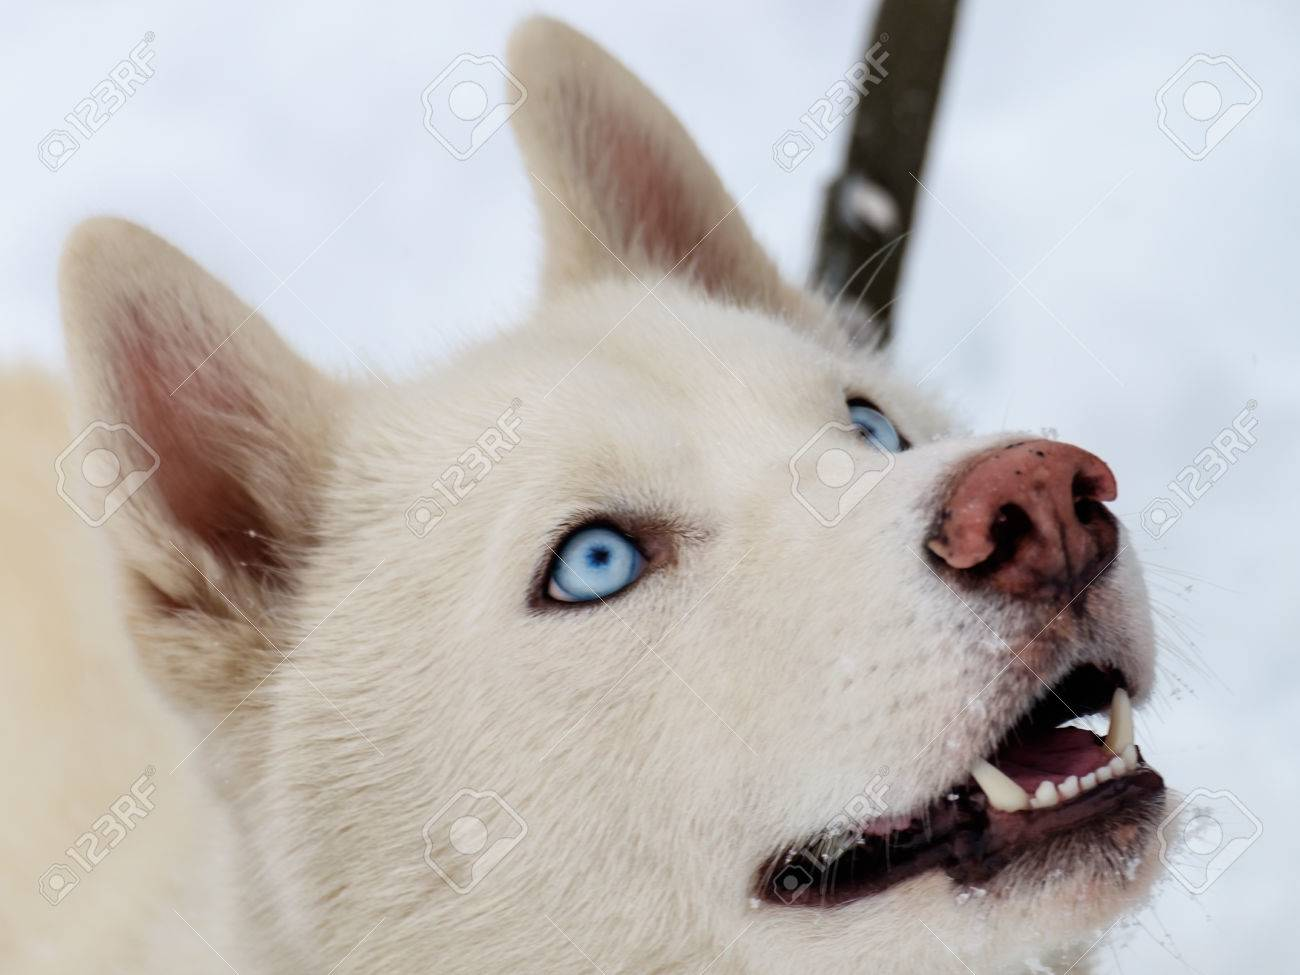husky: (8, 6, 1197, 968)
